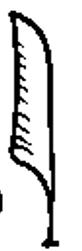Reed: (4, 4, 71, 251)
